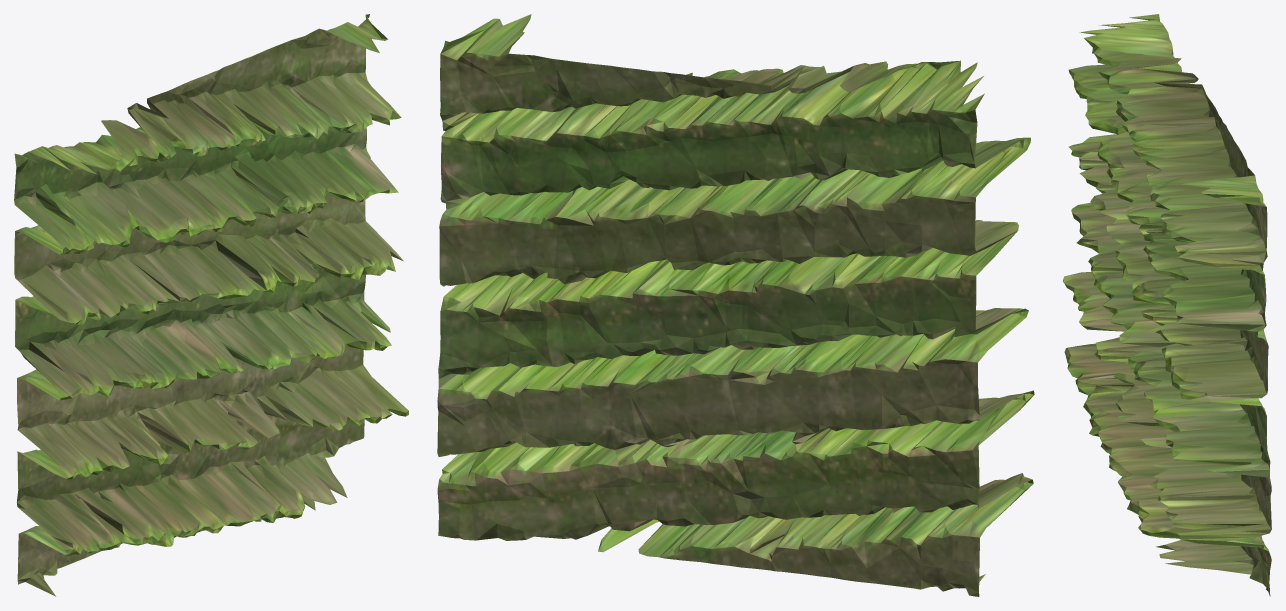
Rendered from map_170_0.obj.
3 renders of one model, left to right at view 1: azimuth 30°, elevation 25°; view 2: azimuth 150°, elevation 25°; view 3: azimuth 270°, elevation 25°, orthographic. The views are drawn at different scales.
Visible parts, largest first — view 1: grp1; view 2: grp1; view 3: grp1.
Boxes of the visible parts, x1,y1,x2,y2 form: grp1: [14, 14, 408, 596]; grp1: [437, 14, 1034, 596]; grp1: [1063, 14, 1271, 596].
Bounding box in the file's own units: 10 × 10 × 4.76.
1 material, 1 textured.
